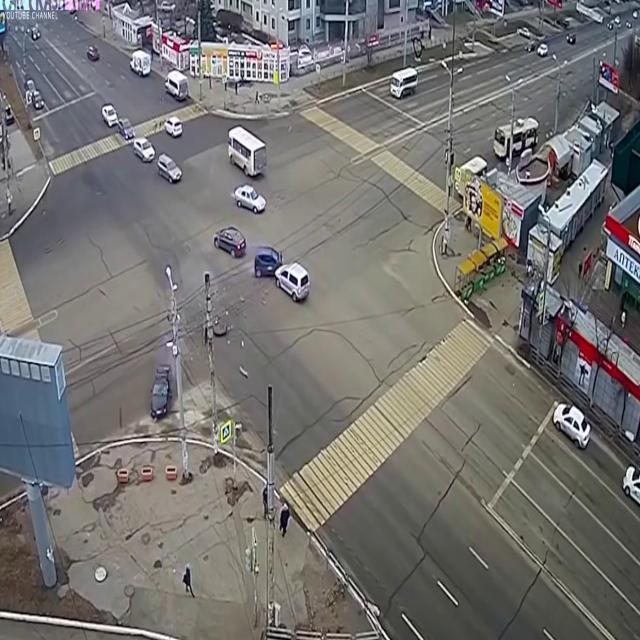accident: (147, 319, 253, 431), (251, 240, 313, 307)
non_accident: (99, 97, 185, 193)
